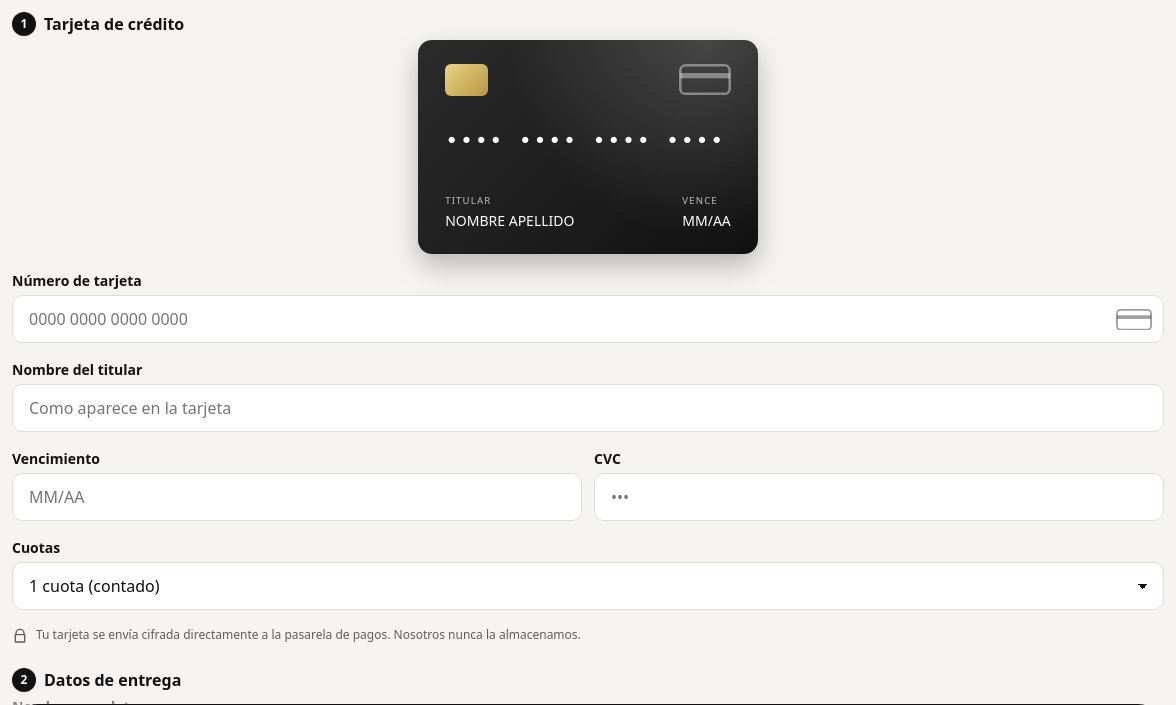
Test case: PaymentDetailsForm (paso 2) › muestra el error de un campo al salir de él
The image size is (1176, 705).
Type "1" into the password field labelled "CVC".
click(879, 497); type("1")  # box [594, 473, 1164, 521]
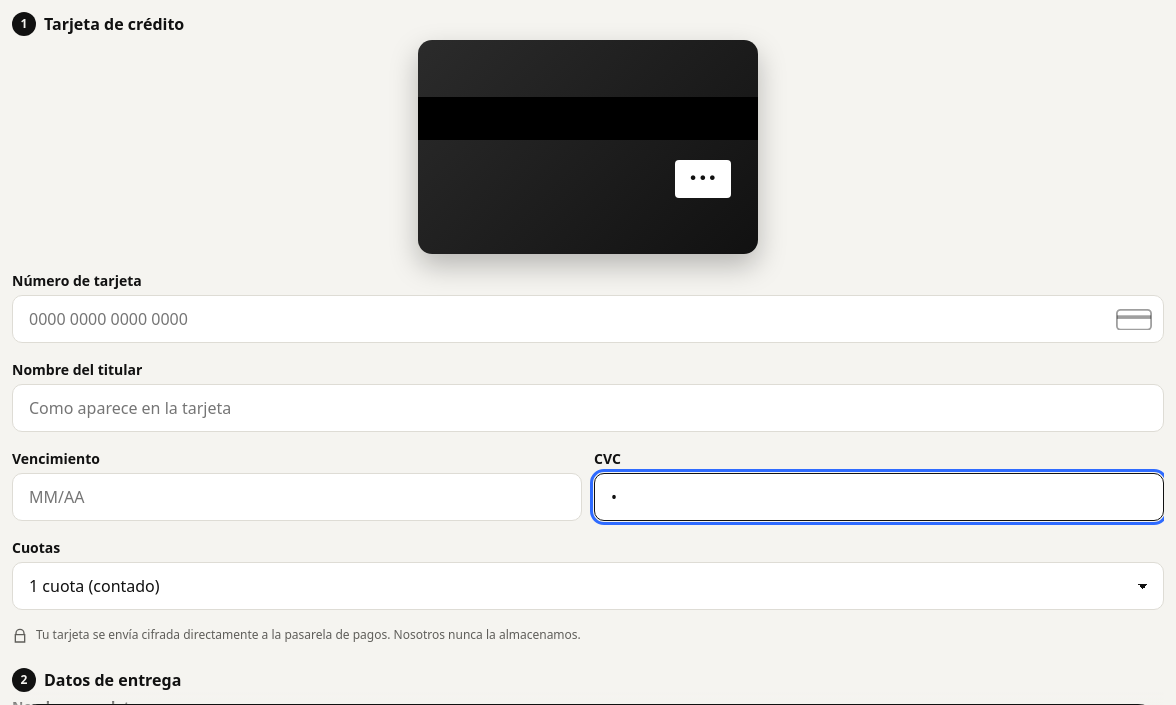
Expected: the text "El CVC tiene 3 dígitos" is not shown
Press Tab
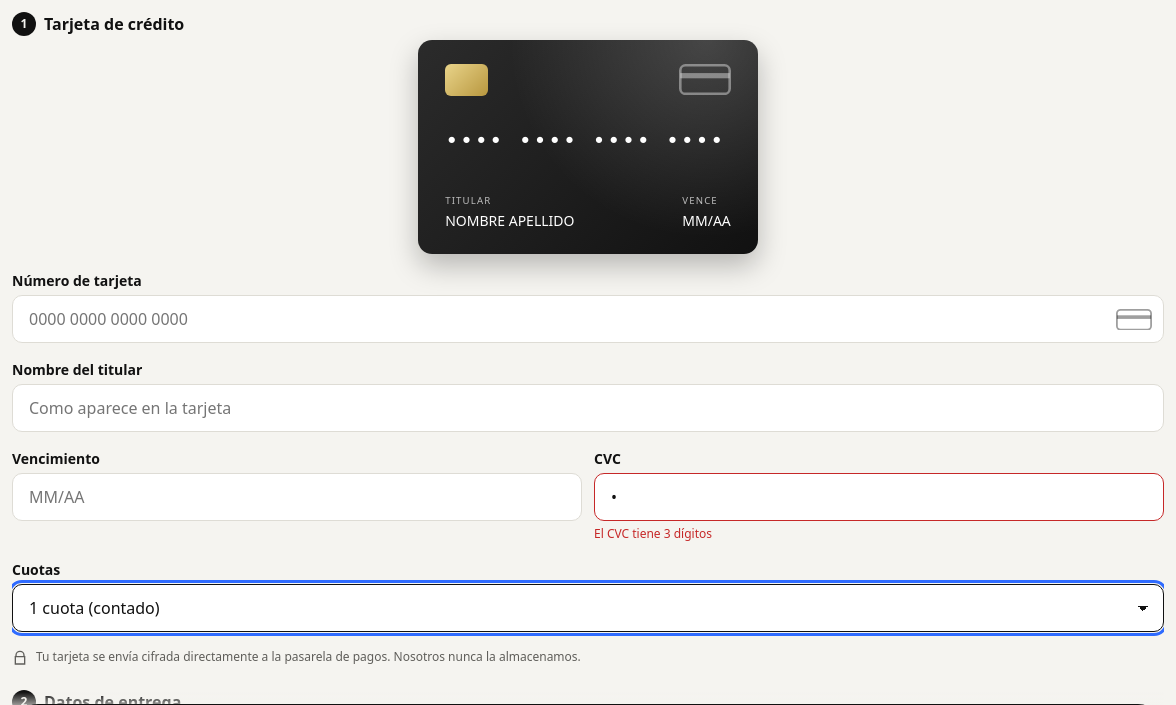
Now the text "El CVC tiene 3 dígitos" is shown, box [594, 525, 712, 542]
